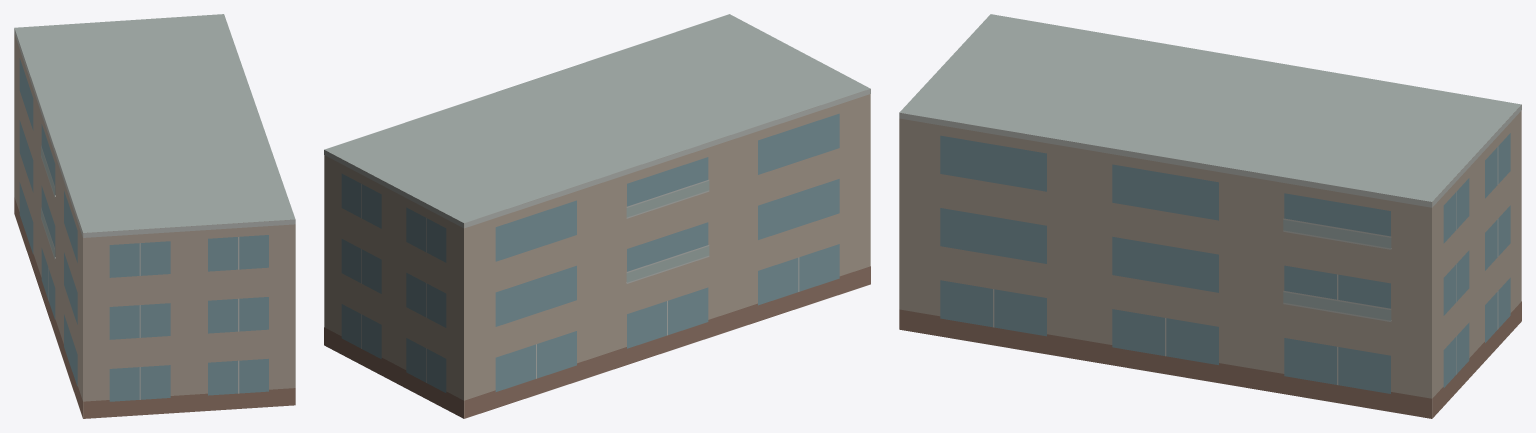
Rendered from survey-upis-32589319.glb.
The picture shows the model from 3 angles, left to right: view 1: azimuth 30°, elevation 25°; view 2: azimuth 150°, elevation 25°; view 3: azimuth 270°, elevation 25°; orthographic projection. The views are drawn at different scales.
Visible parts, largest first — view 1: survey-upis-32589319.tmp; view 2: survey-upis-32589319.tmp; view 3: survey-upis-32589319.tmp.
Part boxes in pixels (x1,y1,x2,y2): survey-upis-32589319.tmp: (14,14,295,418); survey-upis-32589319.tmp: (324,14,870,418); survey-upis-32589319.tmp: (899,14,1521,418).
Bounding box in the file's own units: 17.02 × 9.15 × 23.81.
